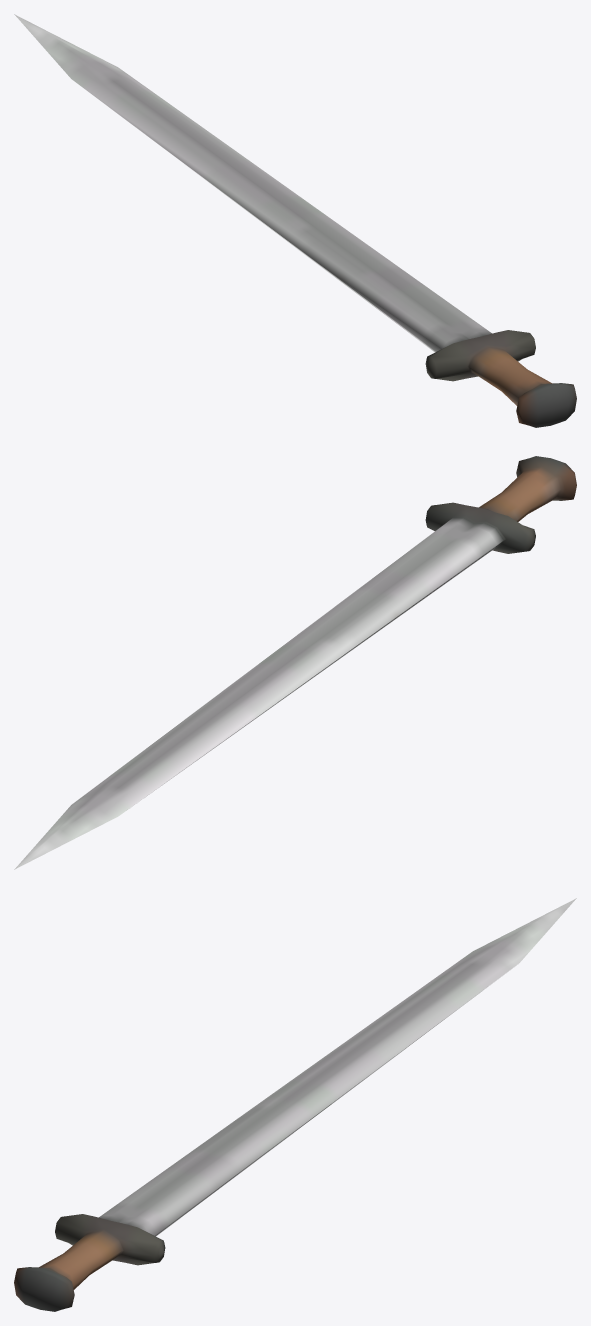
The model's file is SwordIronFire.fbx.
3 renders of one model, top to bottom at view 1: azimuth 30°, elevation 25°; view 2: azimuth 150°, elevation 25°; view 3: azimuth 330°, elevation 25°, orthographic.
Visible parts, largest first — view 1: Viking_Sword (1); view 2: Viking_Sword (1); view 3: Viking_Sword (1).
Boxes of the visible parts, x1,y1,x2,y2 form: Viking_Sword (1): [14, 14, 576, 427]; Viking_Sword (1): [14, 456, 576, 869]; Viking_Sword (1): [14, 898, 576, 1311].
Size of the model in its own units: 0.144 by 0.0541 by 1.27.
Materials: 1 (1 with a texture image).
